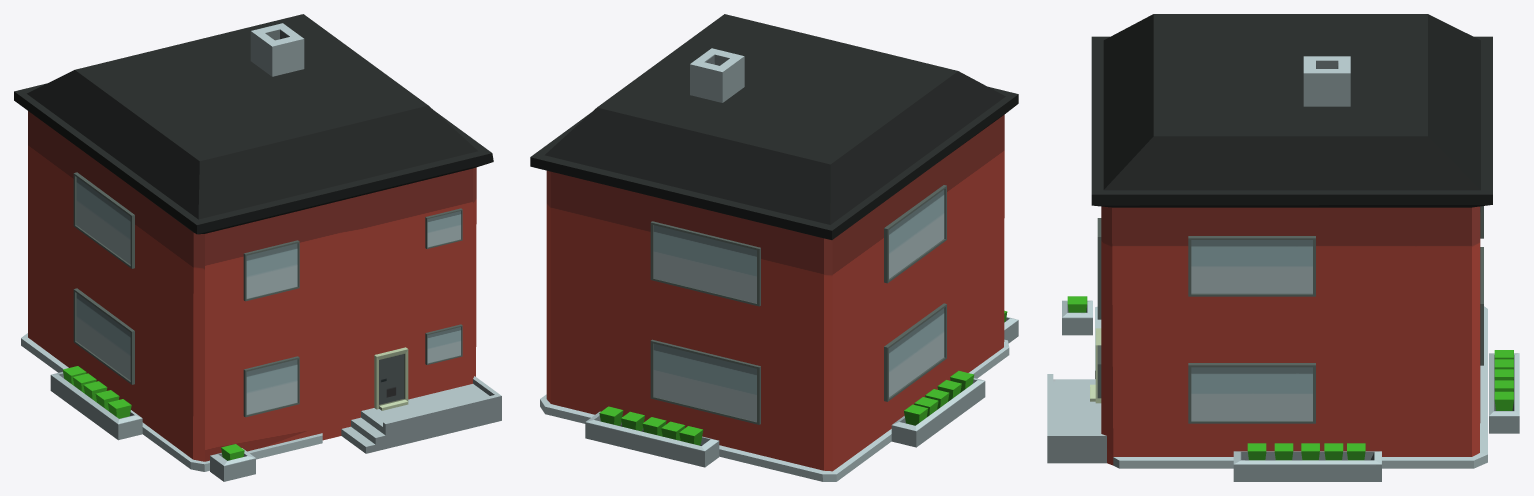
The model's file is Flatty Roof High.fbx.
The picture shows the model from 3 angles, left to right: view 1: azimuth 30°, elevation 25°; view 2: azimuth 150°, elevation 25°; view 3: azimuth 270°, elevation 25°; orthographic projection. The views are drawn at different scales.
Visible parts, largest first — view 1: Flatty Roof High; view 2: Flatty Roof High; view 3: Flatty Roof High.
Boxes of the visible parts, <box> form: Flatty Roof High: <box>14,14,501,481</box>; Flatty Roof High: <box>530,14,1018,481</box>; Flatty Roof High: <box>1047,14,1519,481</box>.
Bounding box in the file's own units: 5.28 × 4.65 × 5.75.
